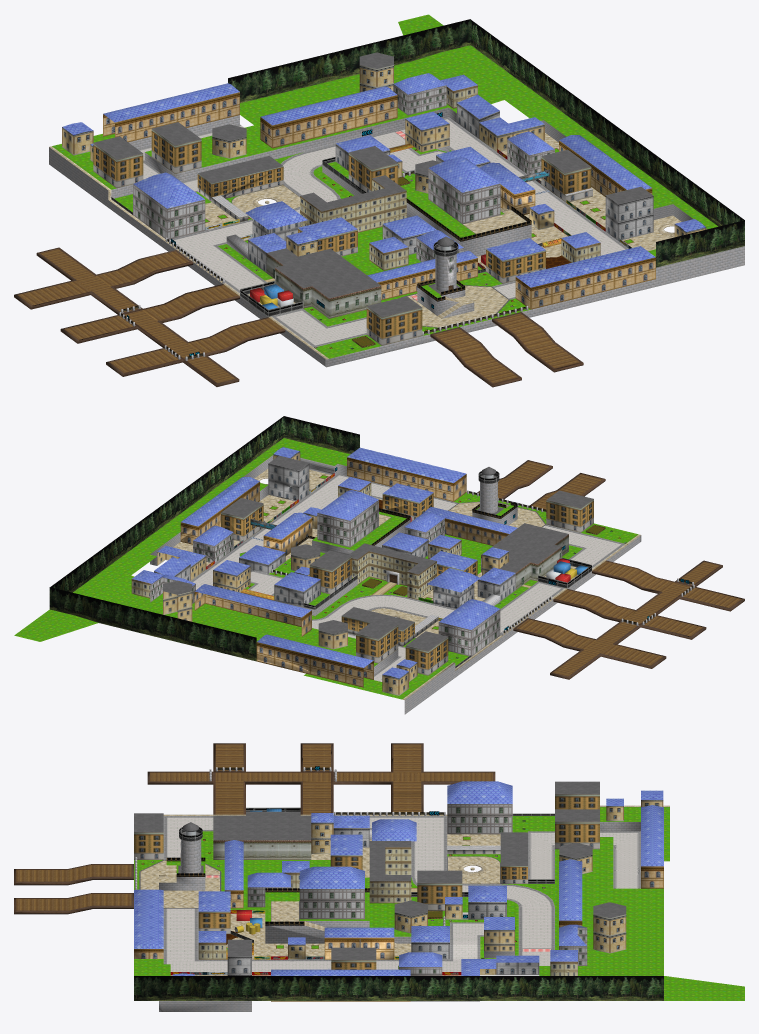
The picture shows the model from 3 angles, top to bottom: view 1: azimuth 30°, elevation 25°; view 2: azimuth 150°, elevation 25°; view 3: azimuth 270°, elevation 25°; orthographic projection. The views are drawn at different scales.
Visible parts, largest first — view 1: final243.061, final243.073, final243.064, final243.085, final243.071, final243.081, final243.069, final243.087, final243.074, final243.091, final243.068, final243.070 (+8 smaller); view 2: final243.061, final243.073, final243.064, final243.081, final243.071, final243.069, final243.074, final243.087, final243.085, final243.091, final243.083, final243.084 (+8 smaller); view 3: final243.061, final243.073, final243.069, final243.064, final243.071, final243.074, final243.087, final243.068, final243.085, final243.091, final243.084, final243.070 (+9 smaller).
Part boxes in pixels (box(x1,y1,x2,y2)): final243.061: box(62, 73, 705, 287); final243.073: box(52, 14, 717, 358); final243.064: box(228, 19, 744, 267); final243.085: box(49, 107, 744, 367); final243.071: box(17, 249, 579, 383); final243.081: box(103, 92, 655, 309); final243.069: box(138, 117, 628, 347); final243.087: box(93, 129, 592, 345); final243.074: box(93, 52, 653, 359); final243.091: box(133, 84, 554, 310); final243.068: box(205, 133, 681, 327); final243.070: box(14, 247, 583, 387); final243.061: box(132, 447, 517, 678); final243.073: box(14, 438, 638, 699); final243.064: box(49, 416, 359, 661); final243.081: box(180, 457, 508, 687); final243.071: box(479, 461, 741, 676); final243.069: box(190, 473, 625, 681); final243.074: box(163, 455, 691, 651); final243.087: box(221, 493, 593, 675); final243.085: box(150, 455, 694, 714); final243.091: box(150, 500, 561, 656); final243.083: box(154, 463, 515, 608); final243.084: box(157, 451, 508, 695); final243.061: box(134, 781, 663, 975); final243.073: box(134, 807, 744, 1000); final243.069: box(163, 816, 640, 971); final243.064: box(134, 976, 663, 1000); final243.071: box(16, 744, 492, 910); final243.074: box(134, 770, 626, 969); final243.087: box(134, 794, 599, 969); final243.068: box(140, 834, 500, 975); final243.085: box(134, 767, 640, 1011); final243.091: box(247, 804, 587, 975); final243.084: box(288, 800, 663, 975); final243.070: box(14, 743, 495, 914).
Size of what is drawn, in the model's own units: 88586 by 10637 by 99950.
Materials: 38 (37 with a texture image).
